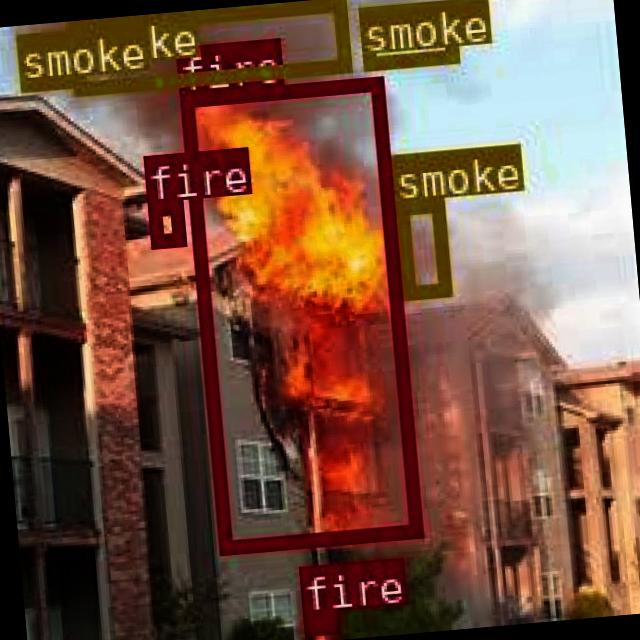fire: (179, 75, 419, 552), (146, 198, 183, 246), (300, 610, 336, 634)
smoke: (67, 0, 346, 91), (356, 0, 457, 67), (393, 198, 450, 296), (13, 28, 78, 88)
